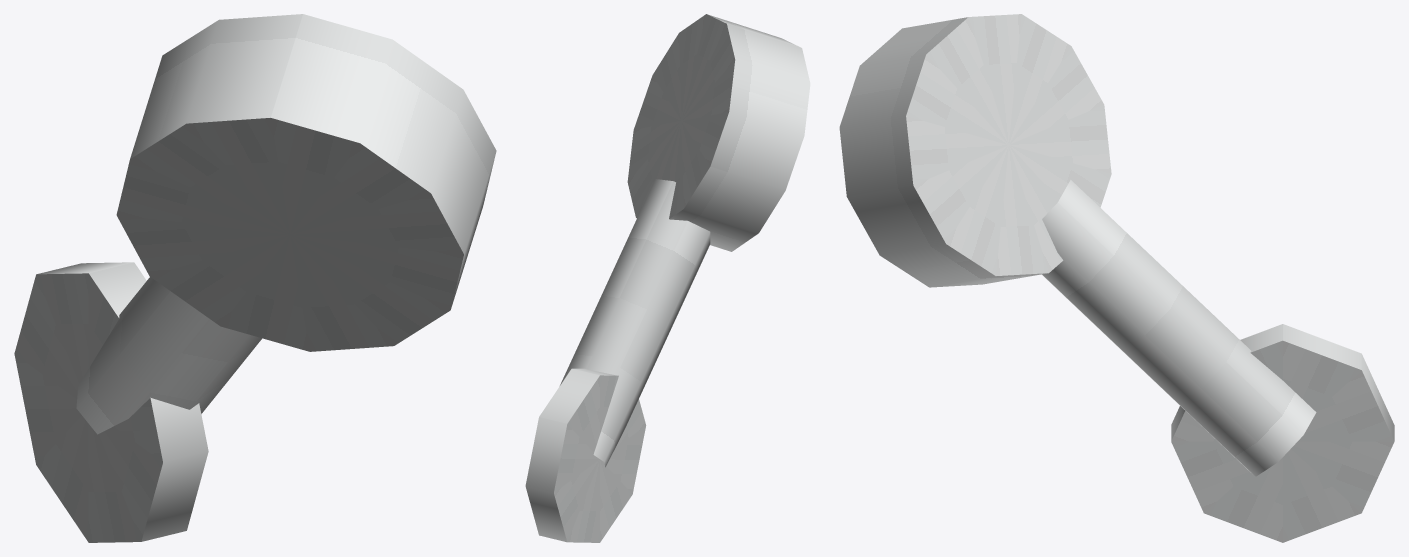
Rendered from nycsignalarm_stub_66.obj.
3 renders of one model, left to right at view 1: azimuth 30°, elevation 25°; view 2: azimuth 150°, elevation 25°; view 3: azimuth 270°, elevation 25°, orthographic. The views are drawn at different scales.
Visible parts, largest first — view 1: nycsignalarm_stub_66; view 2: nycsignalarm_stub_66; view 3: nycsignalarm_stub_66.
Boxes of the visible parts, bbox=[...] form: nycsignalarm_stub_66: bbox=[14, 14, 496, 542]; nycsignalarm_stub_66: bbox=[525, 14, 810, 542]; nycsignalarm_stub_66: bbox=[839, 14, 1394, 542].
Size of the model in its own units: 0.4265 by 0.8839 by 0.8698.
